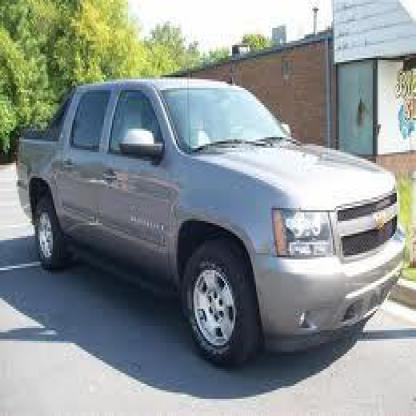car: (18, 75, 410, 371)
